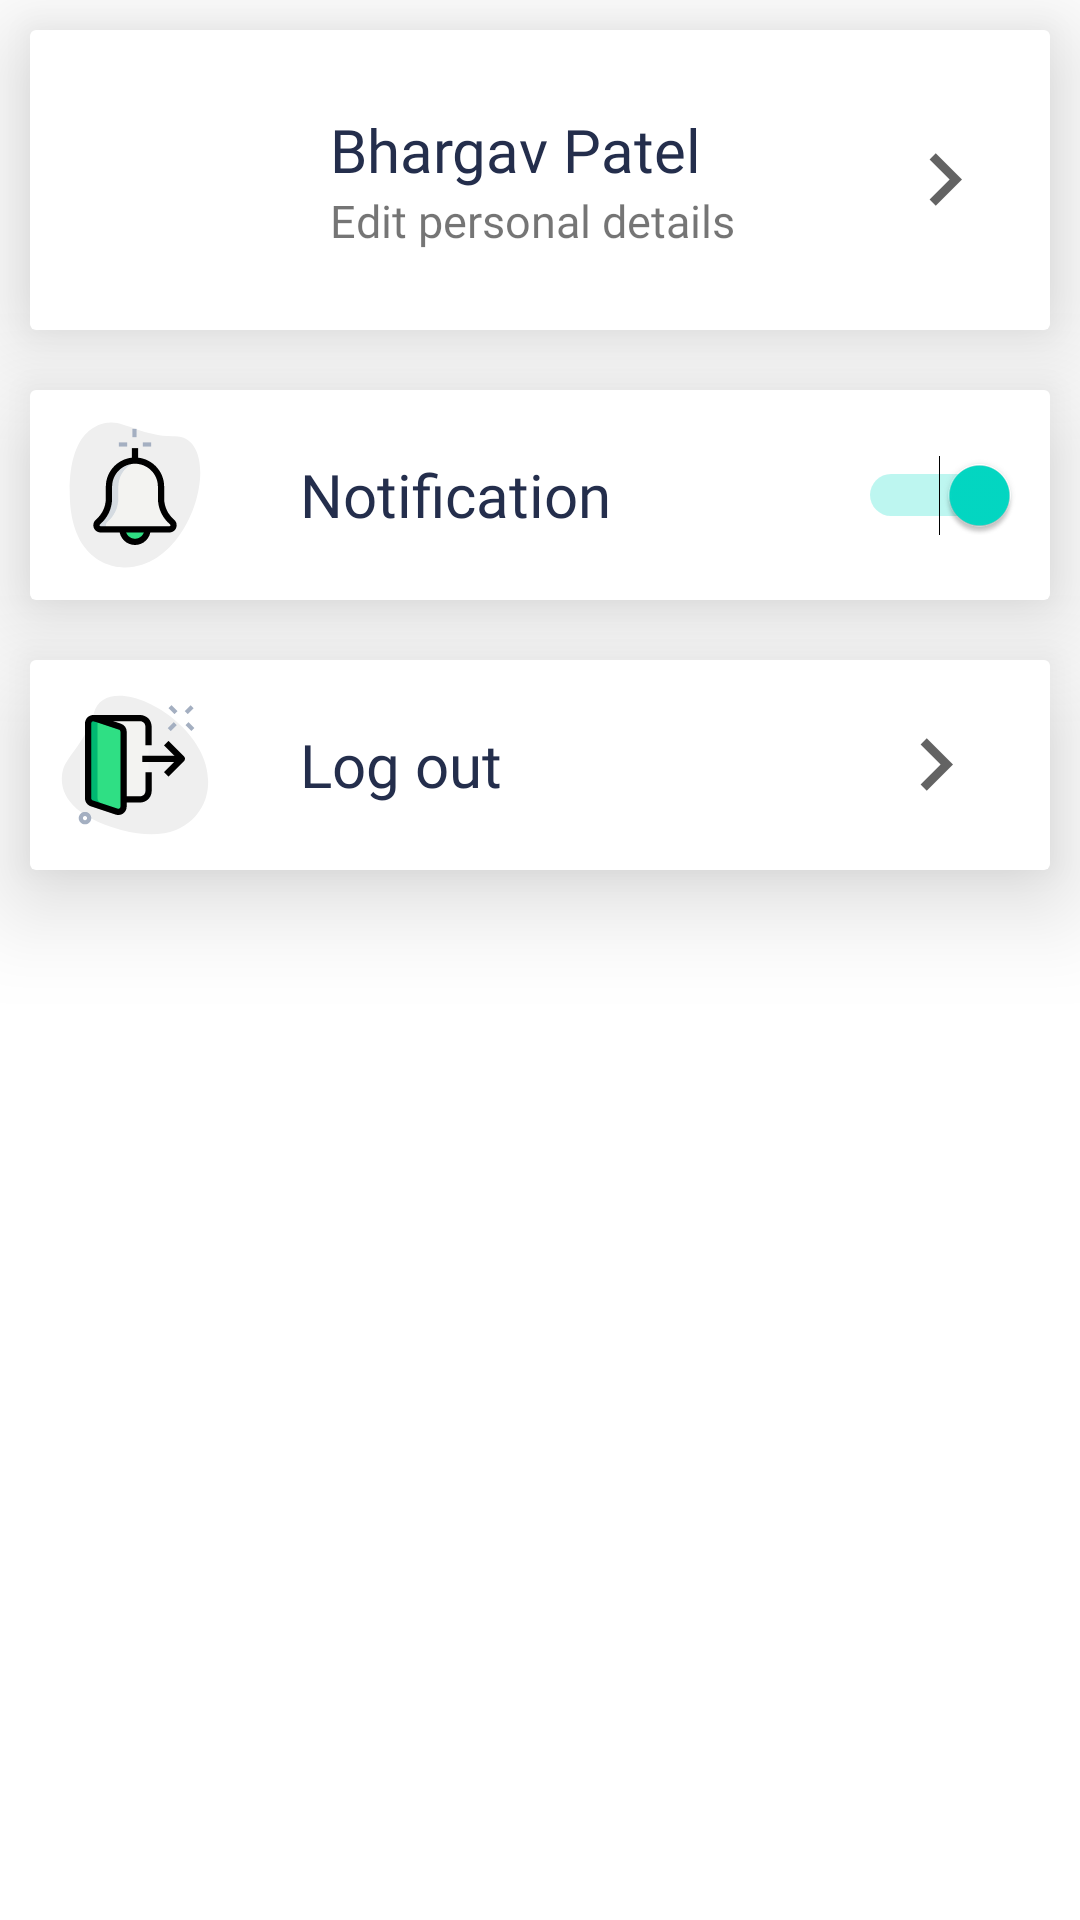

Icons on this 1080w x 1920h Android screen, each with the point to tap as (x,y):
bell: (135,495)
chevron right: (945,179), (936,764)
